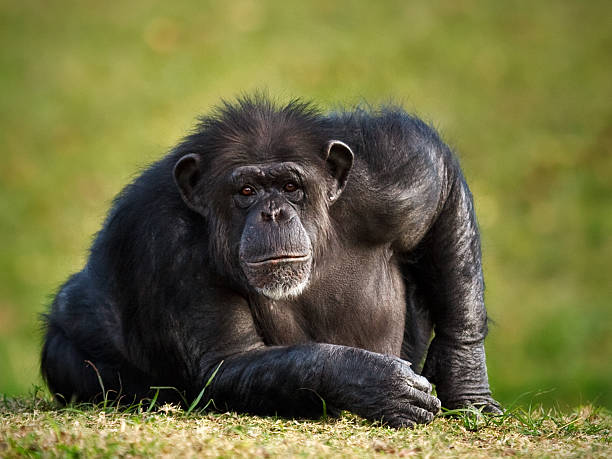chimpanzee: (144, 74, 375, 332)
